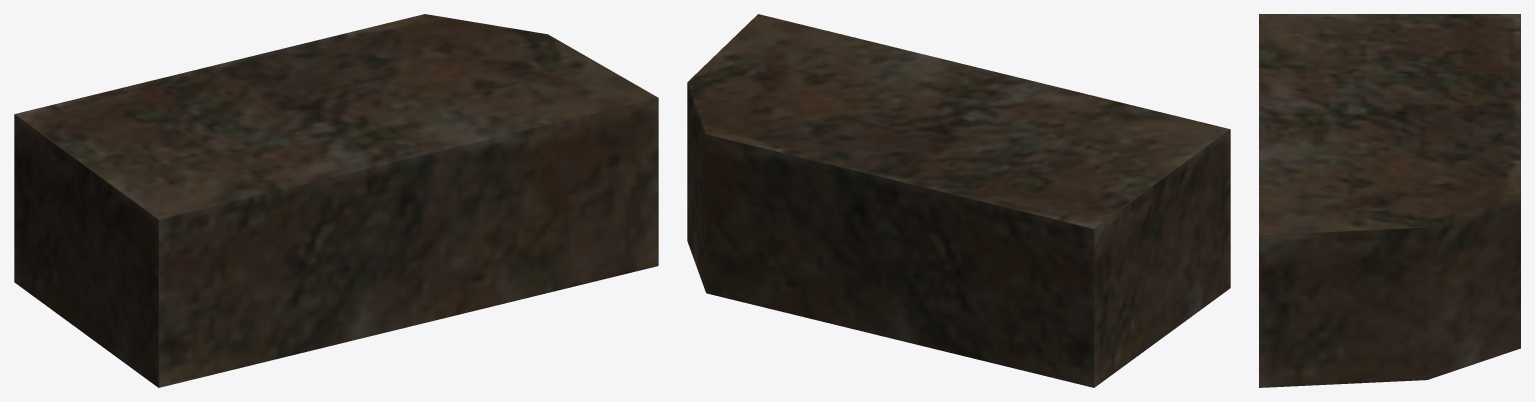
File: brick_mx_2_0.dae
The picture shows the model from 3 angles, left to right: view 1: azimuth 30°, elevation 25°; view 2: azimuth 150°, elevation 25°; view 3: azimuth 270°, elevation 25°; orthographic projection. The views are drawn at different scales.
Parts seen in each view (by area): view 1: brick_mx_2_0; view 2: brick_mx_2_0; view 3: brick_mx_2_0.
Boxes of the visible parts, x1=… form: brick_mx_2_0: x1=14, y1=14, x2=658, y2=387; brick_mx_2_0: x1=687, y1=14, x2=1230, y2=387; brick_mx_2_0: x1=1259, y1=14, x2=1520, y2=387.
Bounding box in the file's own units: 0.28 × 0.14 × 0.09.
Materials: 1 (1 with a texture image).
